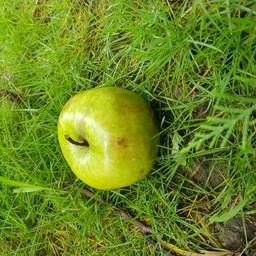Good_apple: (56, 82, 157, 192)
